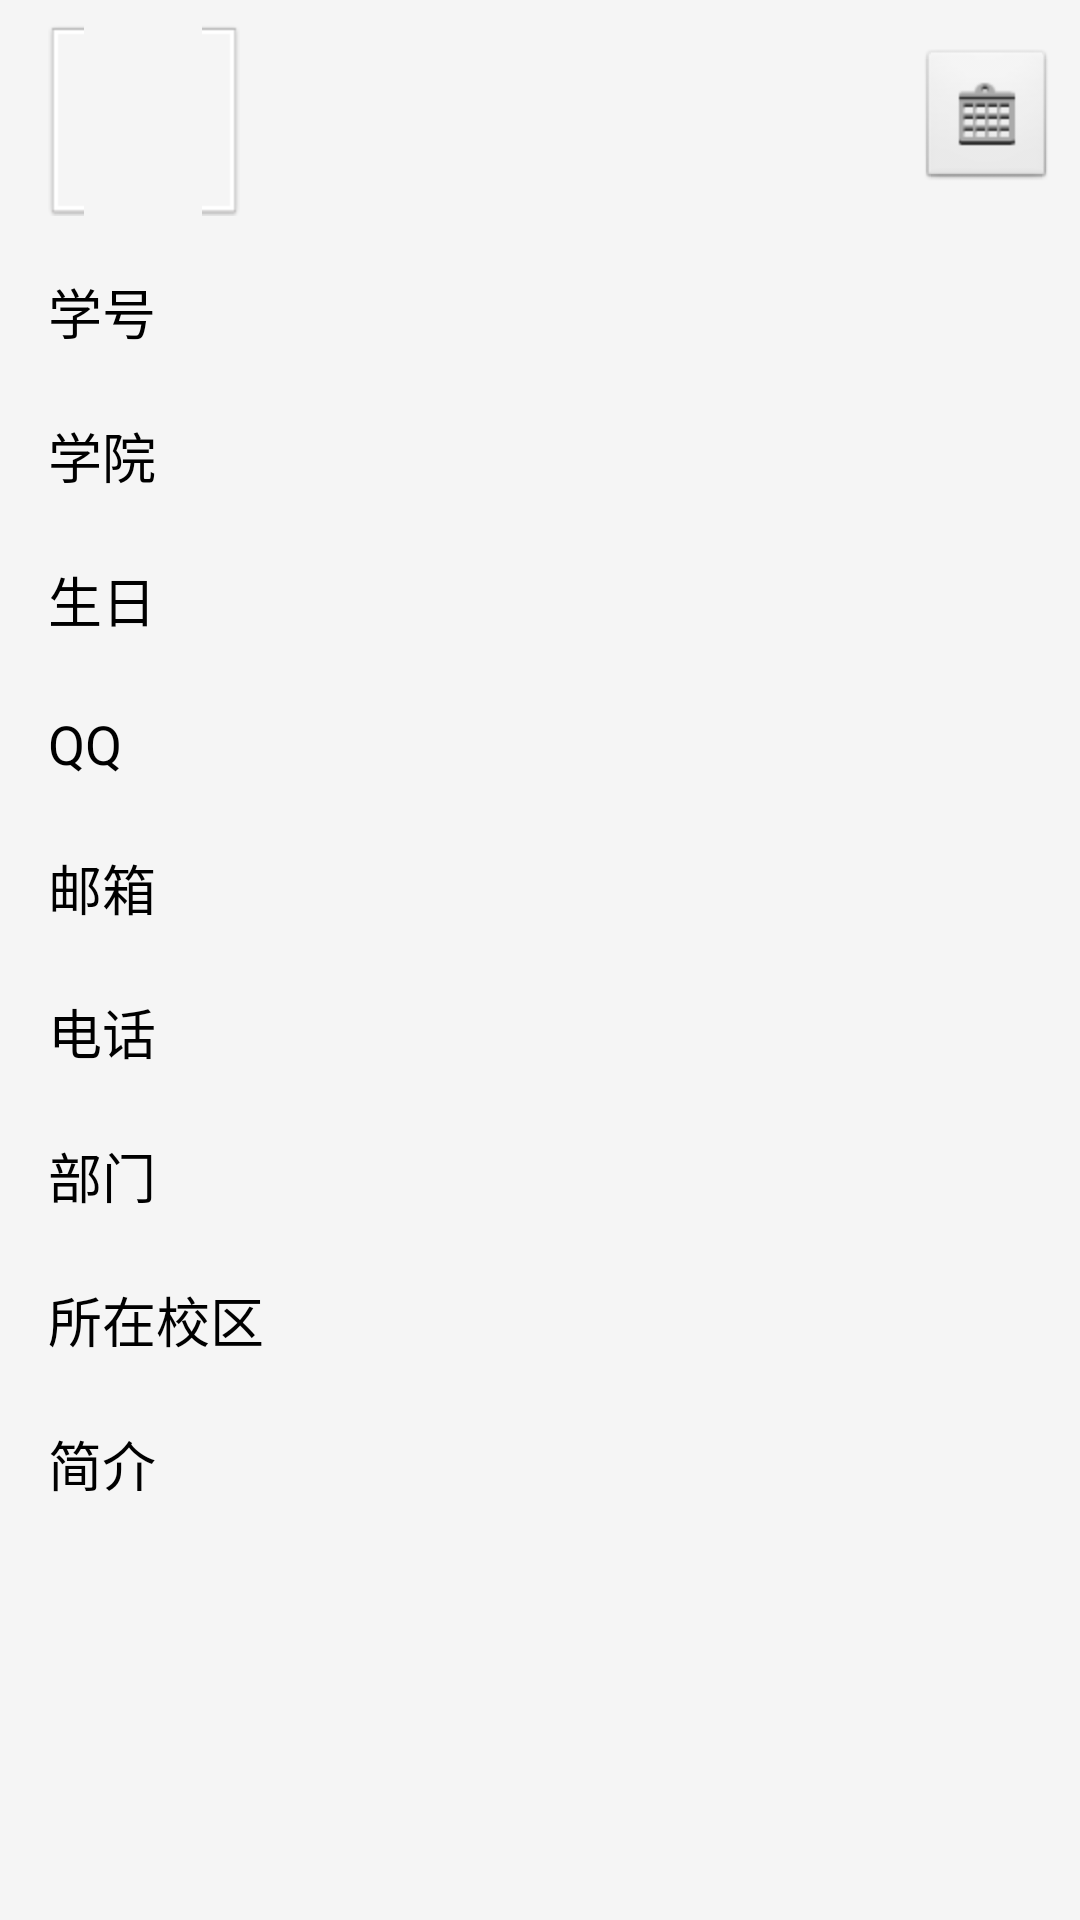

Locate icon controls on the screen. Image size 1080w x 1920h, boxes as (x1, y1, x2, y2).
course: (926, 55, 1047, 178)
